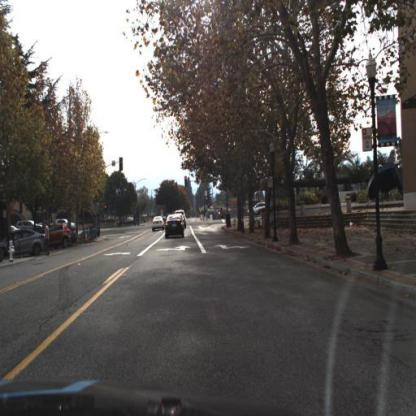car: (8, 224, 50, 261), (40, 220, 72, 252), (164, 211, 186, 239), (50, 226, 73, 247), (150, 213, 167, 234)
pedestrian: (40, 218, 57, 258)
trafficLight-Red: (184, 174, 190, 189), (185, 176, 189, 189)
